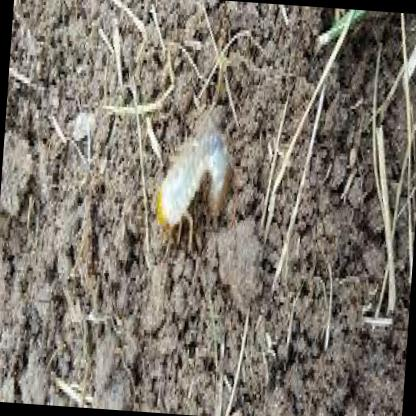root grubs: (156, 124, 229, 244)
